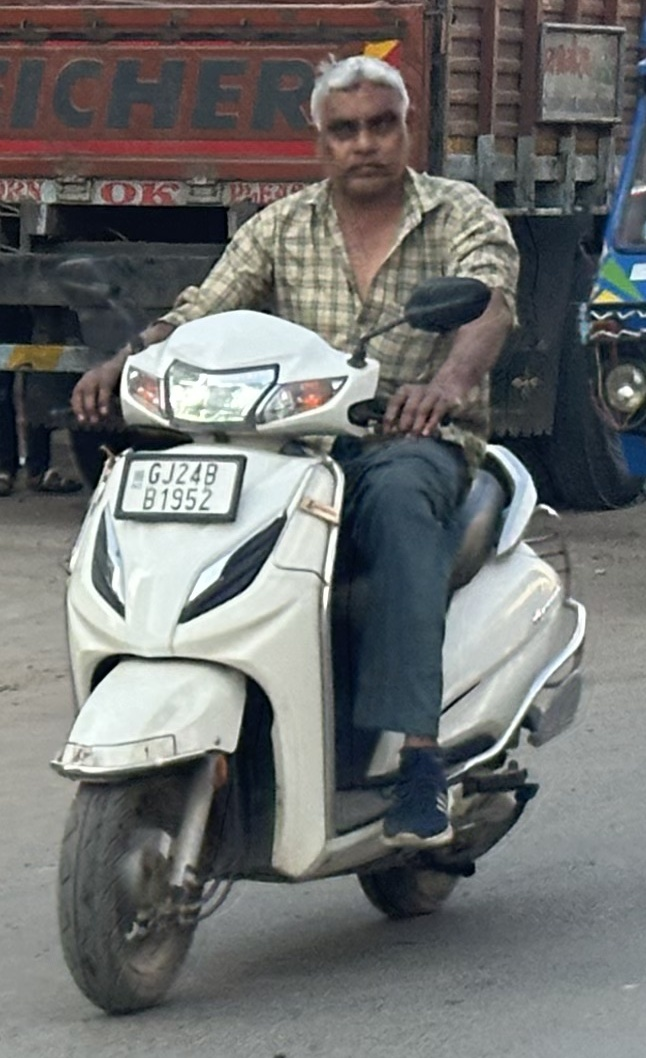NoHelmet: (37, 52, 588, 1017), (311, 54, 424, 201)
